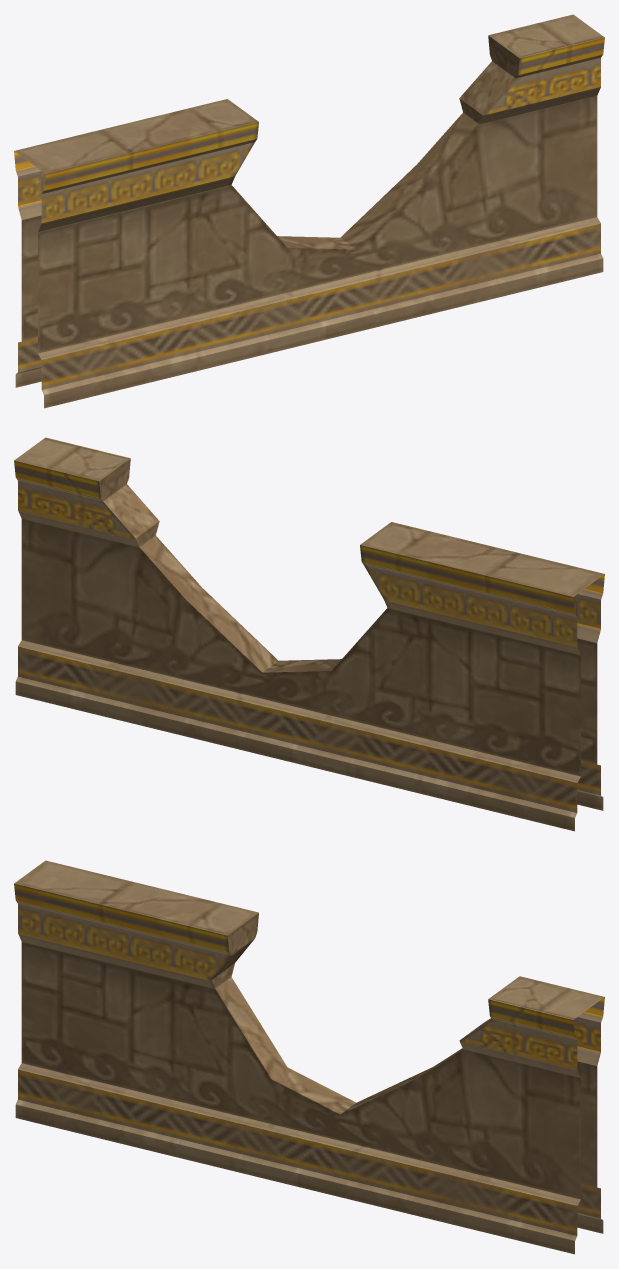
The model's file is desert_dungeon_prop_2_4.FBX.
3 renders of one model, top to bottom at view 1: azimuth 30°, elevation 25°; view 2: azimuth 150°, elevation 25°; view 3: azimuth 330°, elevation 25°, orthographic.
Parts seen in each view (by area): view 1: Object015; view 2: Object015; view 3: Object015.
Boxes of the visible parts, bbox=[...] form: Object015: bbox=[14, 14, 604, 408]; Object015: bbox=[14, 437, 604, 831]; Object015: bbox=[14, 860, 604, 1254].
Size of the model in its own units: 173 by 16.88 by 69.48.
